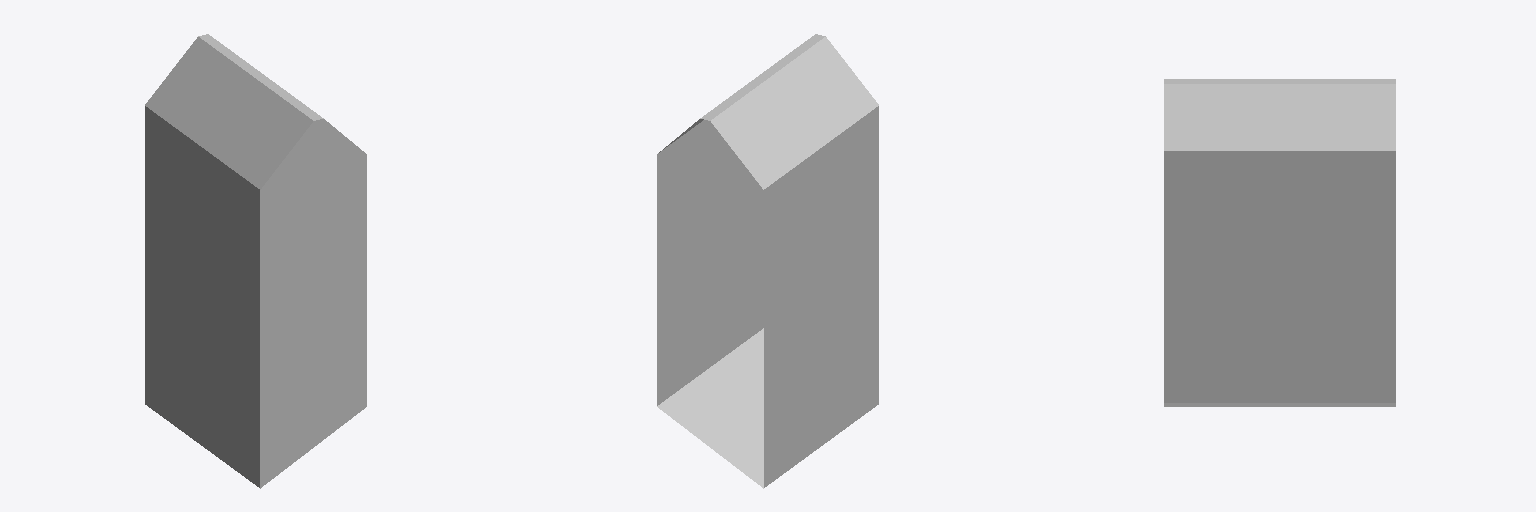
File: building-43.obj
3 views of the same model, side by side, from view 1: azimuth 30°, elevation 25°; view 2: azimuth 150°, elevation 25°; view 3: azimuth 270°, elevation 25° (orthographic).
Bounding box in the file's own units: 3 × 9.5 × 5.62.